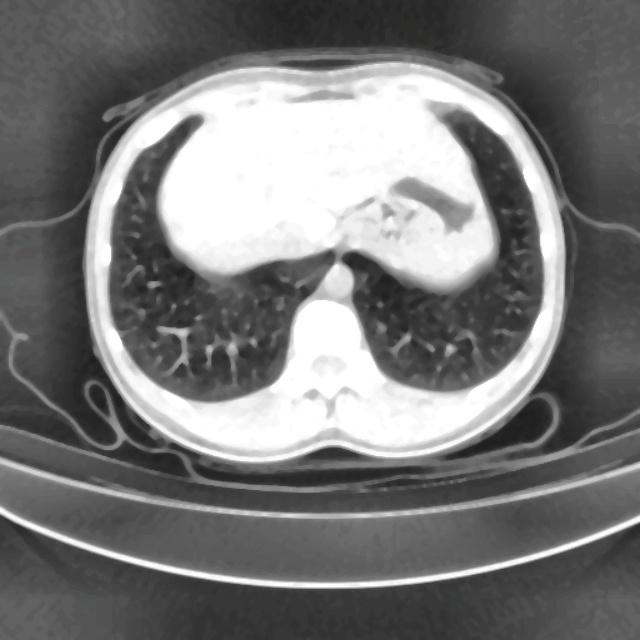covid: (82, 49, 568, 464)
